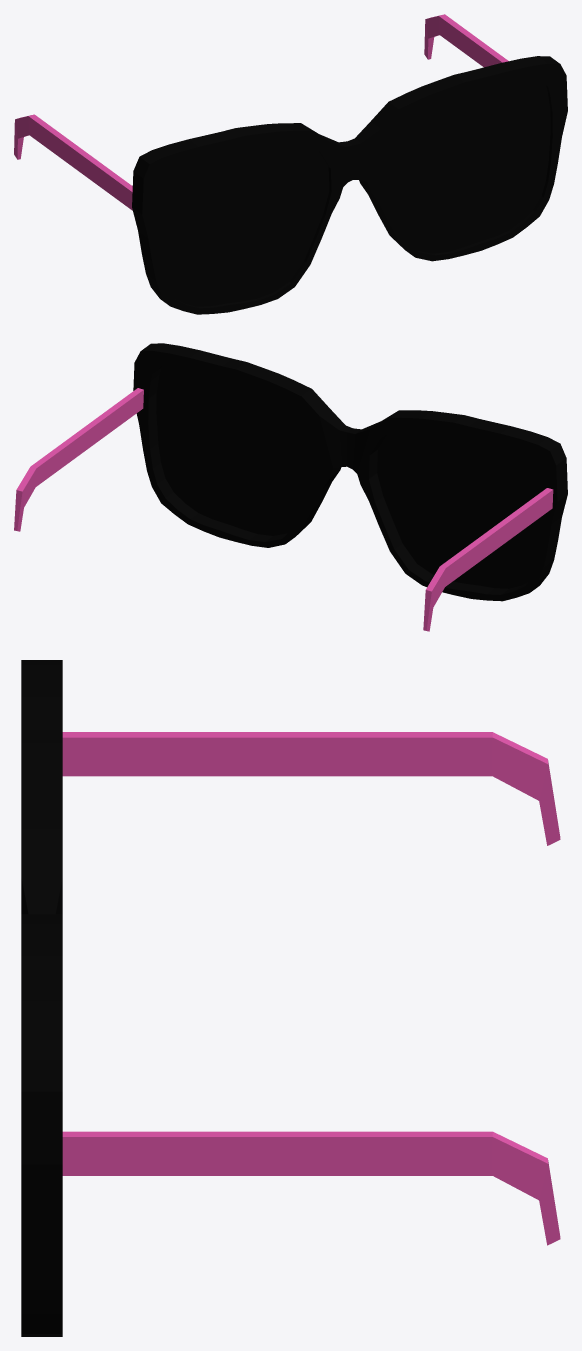
File: naocare1.fbx
The picture shows the model from 3 angles, top to bottom: view 1: azimuth 30°, elevation 25°; view 2: azimuth 150°, elevation 25°; view 3: azimuth 270°, elevation 25°; orthographic projection. The views are drawn at different scales.
Visible parts, largest first — view 1: Cylinder.007, Cylinder.003, Cube.003, Cube.004; view 2: Cylinder.007, Cylinder.003, Cube.003, Cube.004; view 3: Cylinder.003, Cube.003, Cube.004.
Boxes of the visible parts, bbox=[...] form: Cylinder.007: bbox=[157, 76, 550, 306]; Cylinder.003: bbox=[132, 56, 567, 314]; Cube.003: bbox=[14, 114, 132, 210]; Cube.004: bbox=[424, 14, 508, 67]; Cylinder.007: bbox=[156, 363, 542, 588]; Cylinder.003: bbox=[133, 343, 567, 601]; Cube.003: bbox=[423, 488, 553, 631]; Cube.004: bbox=[14, 388, 143, 531]; Cylinder.003: bbox=[21, 660, 62, 1336]; Cube.003: bbox=[62, 732, 560, 845]; Cube.004: bbox=[62, 1131, 560, 1245].
Size of the model in its own units: 77.2 by 30.04 by 42.44.
